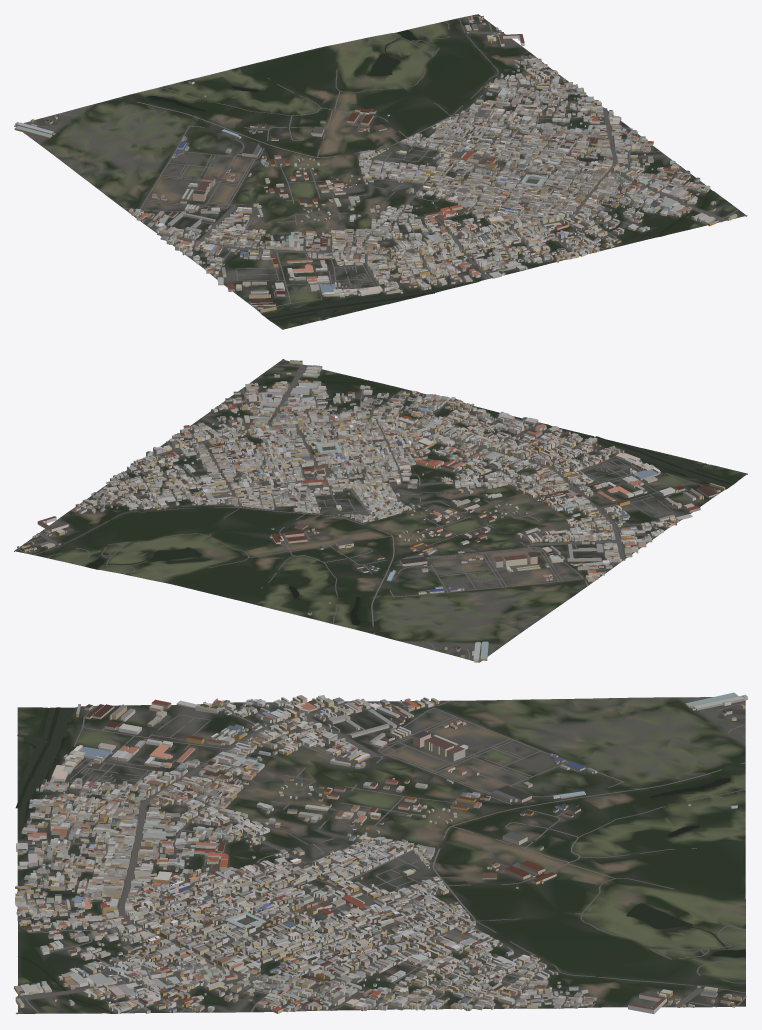
3 views of the same model, one above another, from view 1: azimuth 30°, elevation 25°; view 2: azimuth 150°, elevation 25°; view 3: azimuth 270°, elevation 25° (orthographic). The views are drawn at different scales.
Visible parts, largest first — view 1: ground, buildings, roads, water; view 2: ground, buildings, roads, water; view 3: ground, buildings, roads, water.
Part boxes in pixels (box(x1,y1,x2,y2)): ground: box(14, 14, 745, 329); buildings: box(14, 15, 737, 312); roads: box(14, 16, 747, 306); water: box(147, 29, 710, 320); ground: box(14, 360, 747, 662); buildings: box(17, 360, 725, 662); roads: box(17, 359, 718, 662); water: box(85, 380, 735, 625); ground: box(17, 697, 745, 1013); buildings: box(14, 692, 747, 1013); roads: box(16, 697, 746, 1014); water: box(15, 707, 745, 1012).
Size of the model in its own units: 1444 by 41.34 by 1412.
